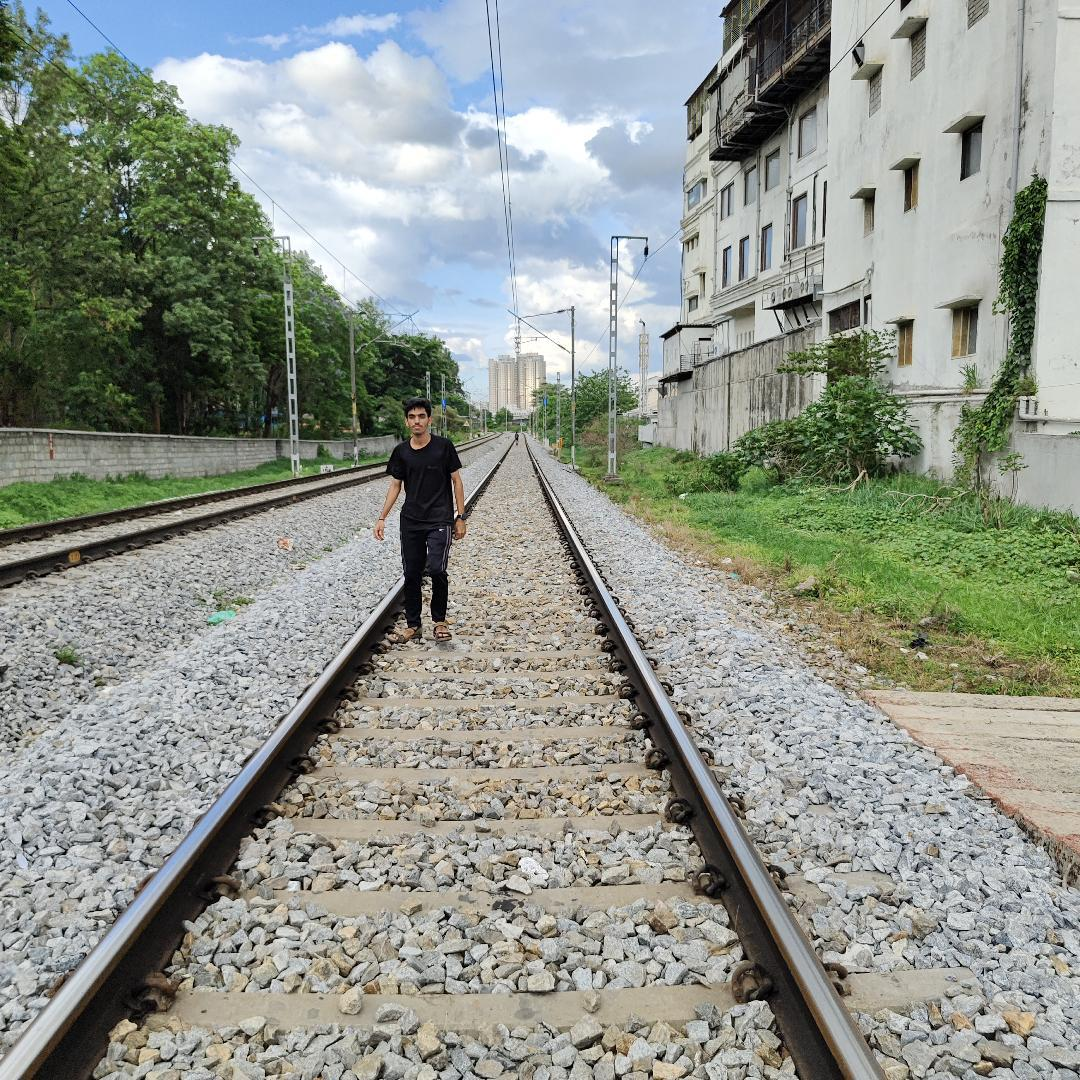standing: (384, 392, 472, 654)
